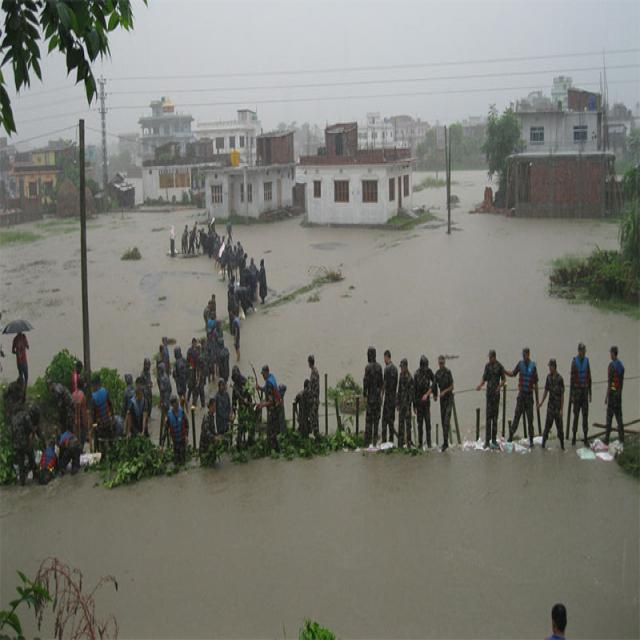flood: (0, 450, 640, 640), (234, 171, 640, 440), (89, 211, 226, 374), (0, 221, 81, 376)
house: (295, 116, 429, 231), (491, 108, 619, 221), (225, 123, 301, 220), (136, 102, 208, 203), (10, 148, 58, 196)
